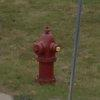Hydrant: (28, 18, 61, 90)
